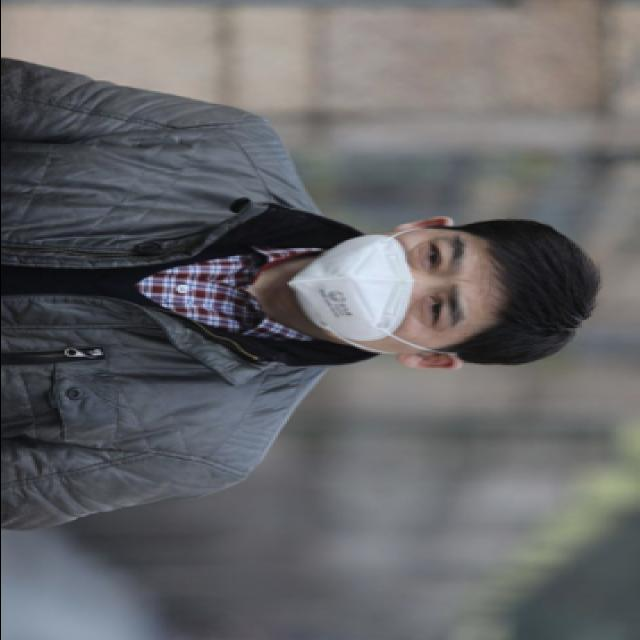with_mask: (290, 228, 472, 354)
